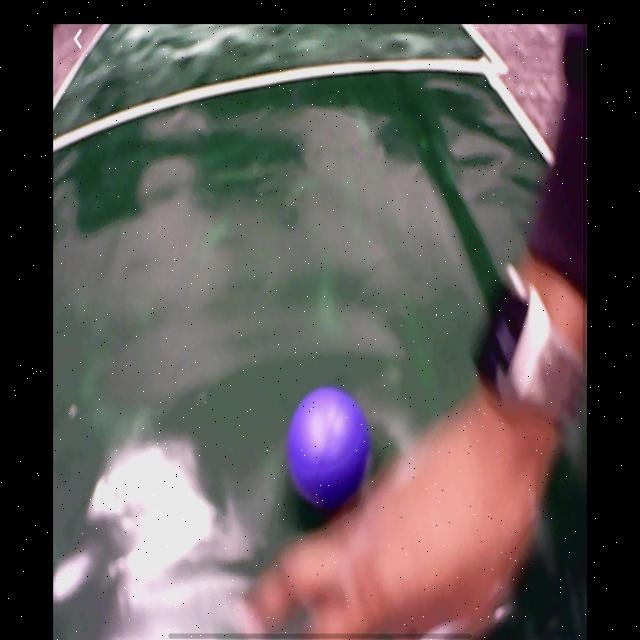ball: (287, 385, 372, 508)
